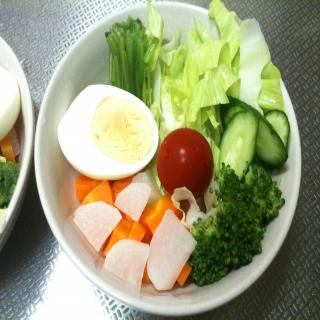Egg: (56, 84, 160, 181)
Tomato: (155, 126, 215, 201)
